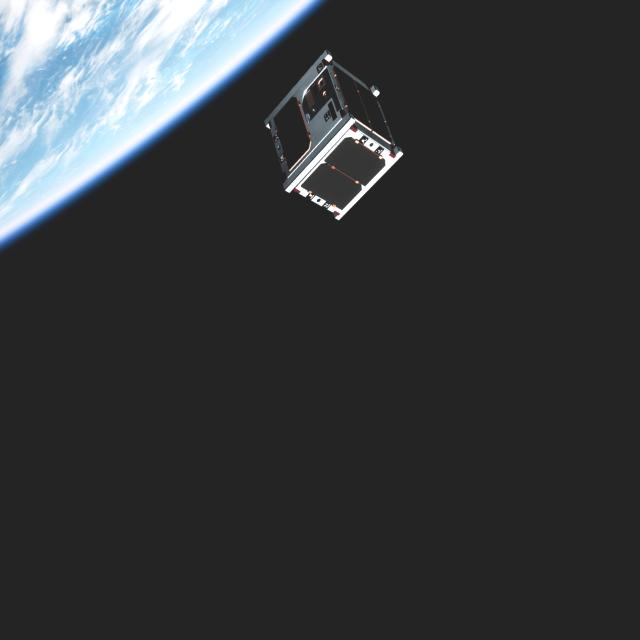satellite: (257, 42, 405, 228)
